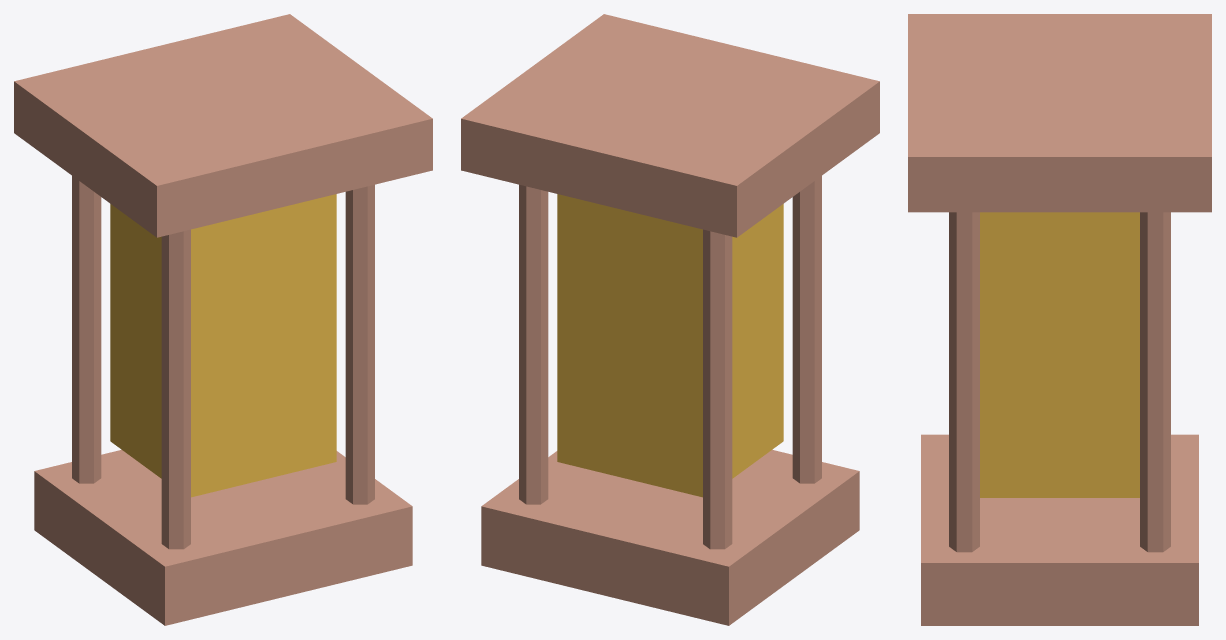
The picture shows the model from 3 angles, left to right: view 1: azimuth 30°, elevation 25°; view 2: azimuth 150°, elevation 25°; view 3: azimuth 270°, elevation 25°; orthographic projection. The views are drawn at different scales.
Parts seen in each view (by area): view 1: Lantern roof, Lantern light core, Lantern base, Lantern pillar, Lantern pillar.002, Lantern pillar.001; view 2: Lantern roof, Lantern light core, Lantern base, Lantern pillar.001, Lantern pillar.003, Lantern pillar; view 3: Lantern roof, Lantern light core, Lantern base, Lantern pillar.002, Lantern pillar.003.
Boxes of the visible parts, x1=… form: Lantern roof: x1=14, y1=14, x2=432, y2=237; Lantern light core: x1=110, y1=194, x2=336, y2=497; Lantern base: x1=34, y1=449, x2=412, y2=625; Lantern pillar: x1=161, y1=229, x2=190, y2=549; Lantern pillar.002: x1=345, y1=184, x2=374, y2=504; Lantern pillar.001: x1=72, y1=176, x2=101, y2=483; Lantern roof: x1=461, y1=14, x2=879, y2=237; Lantern light core: x1=557, y1=194, x2=783, y2=497; Lantern base: x1=481, y1=449, x2=859, y2=625; Lantern pillar.001: x1=703, y1=229, x2=732, y2=549; Lantern pillar.003: x1=519, y1=184, x2=548, y2=504; Lantern pillar: x1=792, y1=176, x2=821, y2=483; Lantern roof: x1=908, y1=14, x2=1211, y2=212; Lantern light core: x1=980, y1=212, x2=1139, y2=497; Lantern base: x1=921, y1=434, x2=1198, y2=625; Lantern pillar.002: x1=949, y1=212, x2=979, y2=552; Lantern pillar.003: x1=1140, y1=212, x2=1170, y2=552.
Bounding box in the file's own units: 0.39 × 0.605 × 0.35.
1 material, 1 textured.
